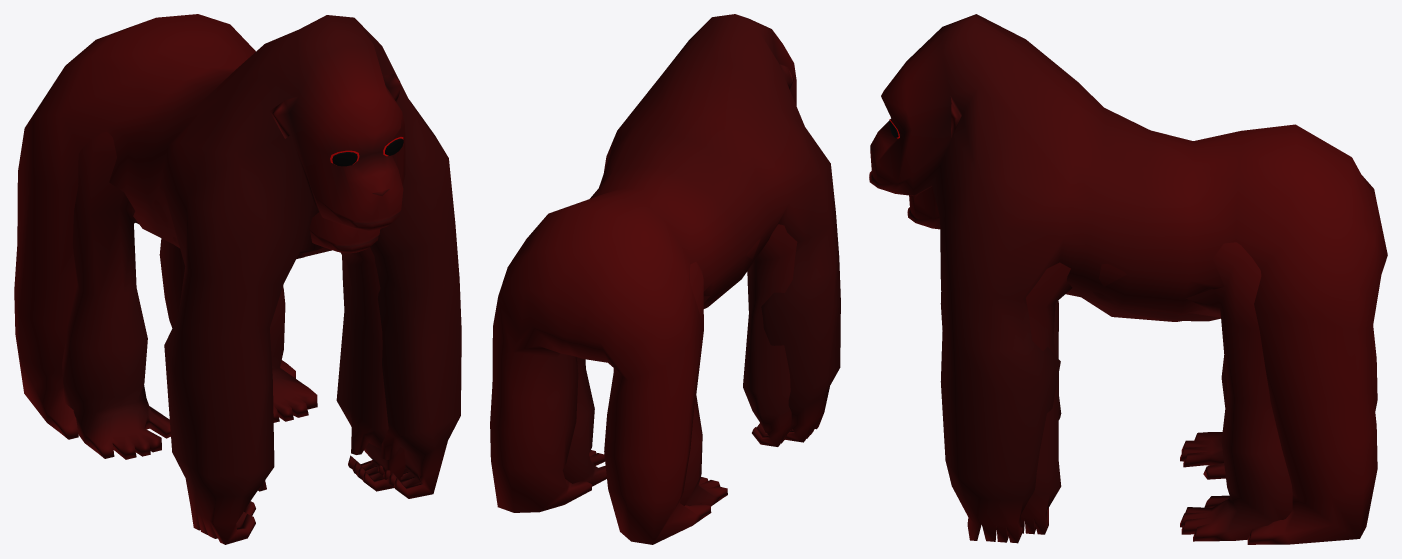
Rendered from Animals_Gorilla.fbx.
3 views of the same model, side by side, from view 1: azimuth 30°, elevation 25°; view 2: azimuth 150°, elevation 25°; view 3: azimuth 270°, elevation 25° (orthographic). The views are drawn at different scales.
Parts seen in each view (by area): view 1: alt586, alt587; view 2: alt586, alt587; view 3: alt586, alt587.
Part boxes in pixels (bbox=[...]): alt586: bbox=[14, 14, 461, 544]; alt587: bbox=[62, 132, 405, 515]; alt586: bbox=[490, 14, 840, 544]; alt587: bbox=[562, 224, 797, 506]; alt586: bbox=[869, 14, 1387, 544]; alt587: bbox=[907, 186, 1292, 541].
Bounding box in the file's own units: 96.61 × 168 × 166.
